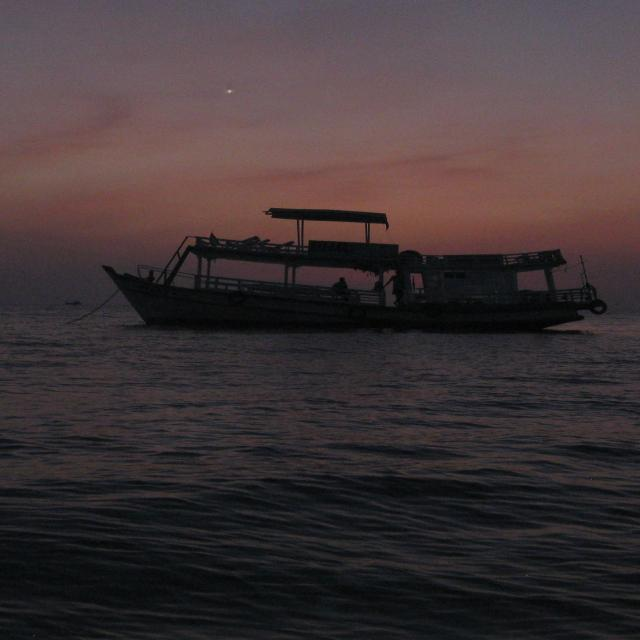Boat: (119, 192, 630, 370)
